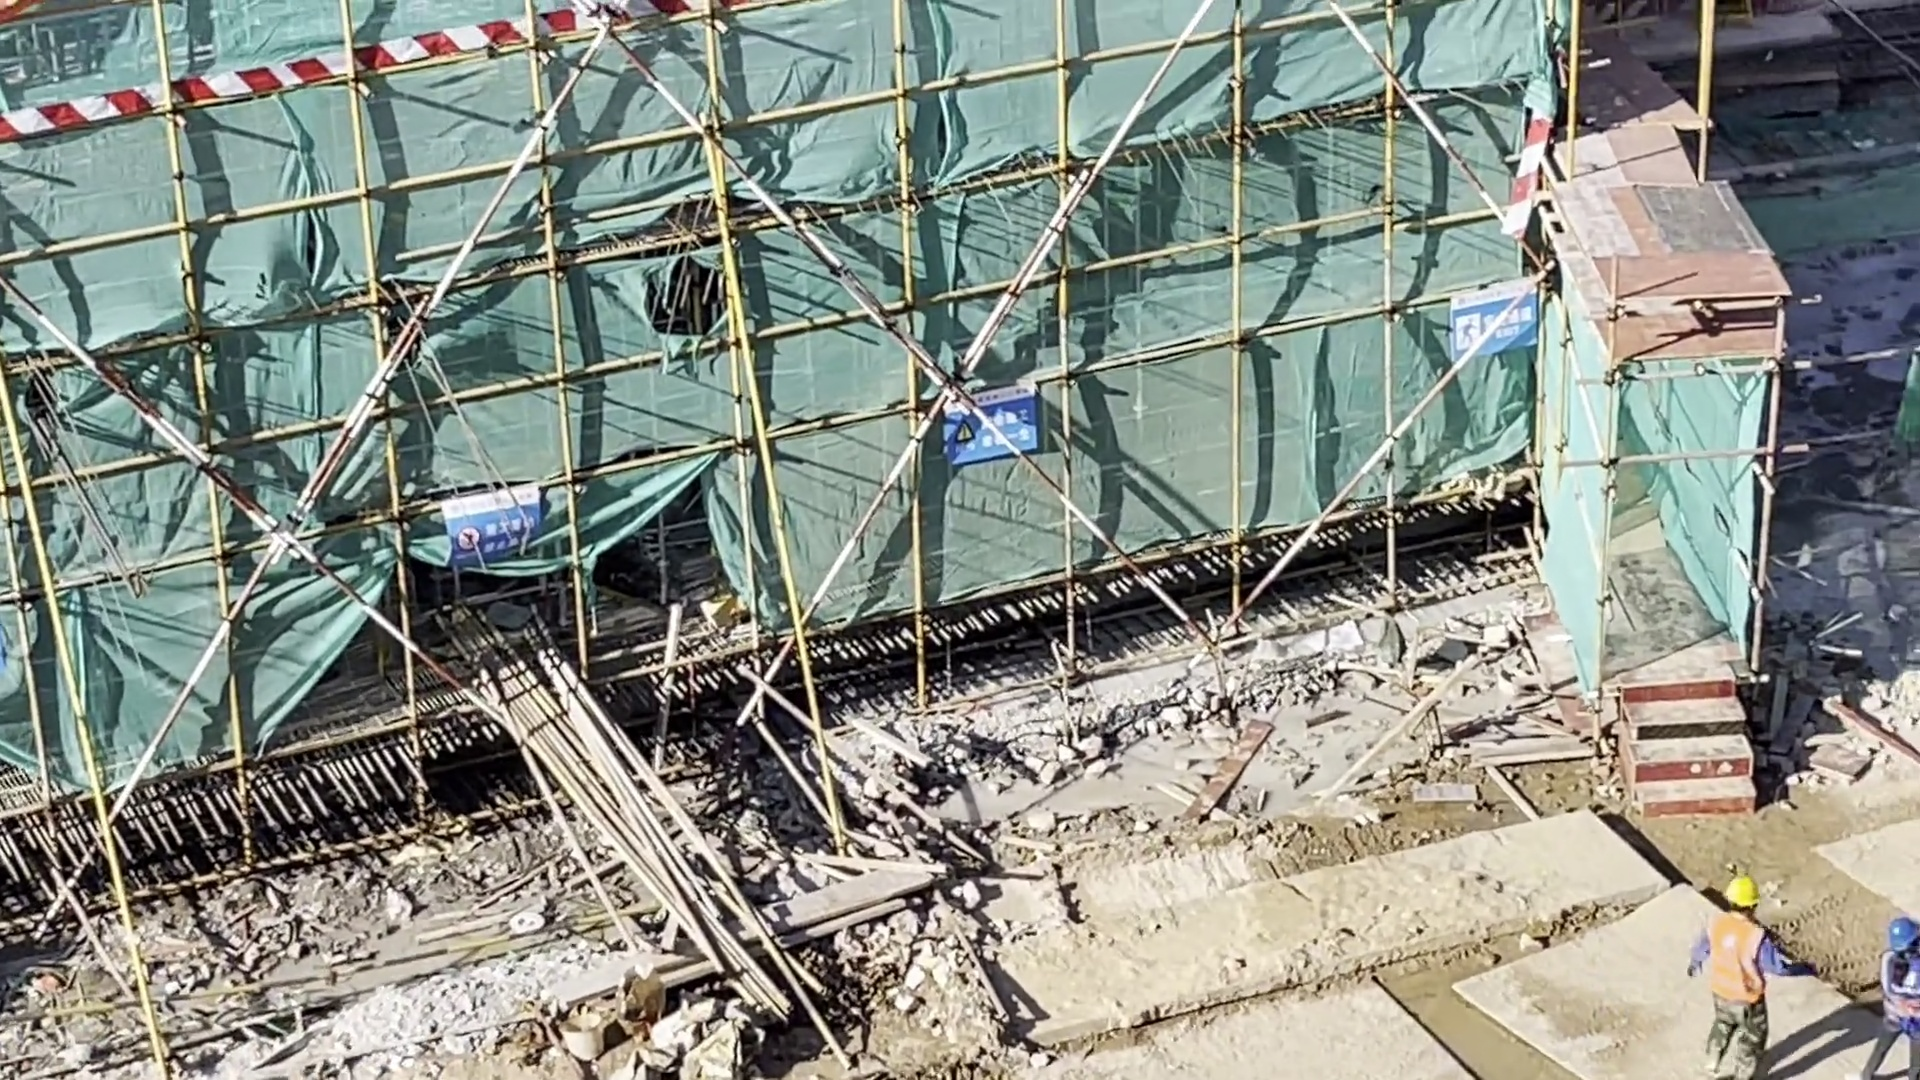helmet: (1718, 871, 1764, 922), (1878, 908, 1920, 955)
person: (1671, 854, 1817, 1080), (1862, 901, 1920, 1080)
slogan: (914, 382, 1061, 472), (1420, 282, 1563, 365), (436, 483, 561, 576)
vest: (1703, 913, 1771, 1009), (1878, 954, 1912, 1026)
